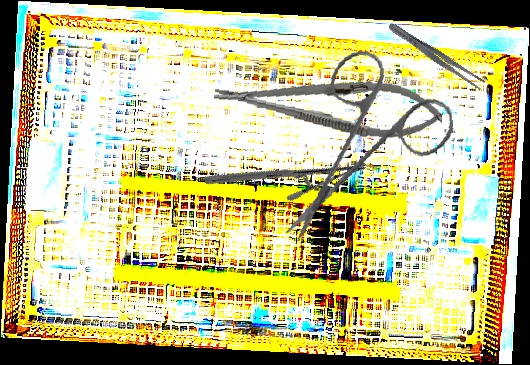Dressing Forceps: (385, 19, 487, 92)
Iris Scissors: (262, 39, 467, 243)
Needle Holder: (202, 98, 369, 249), (211, 63, 446, 146)
